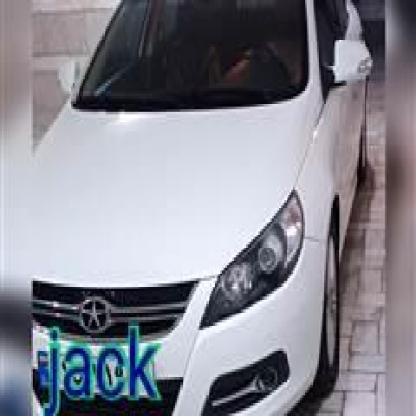Car: (0, 0, 369, 416)
